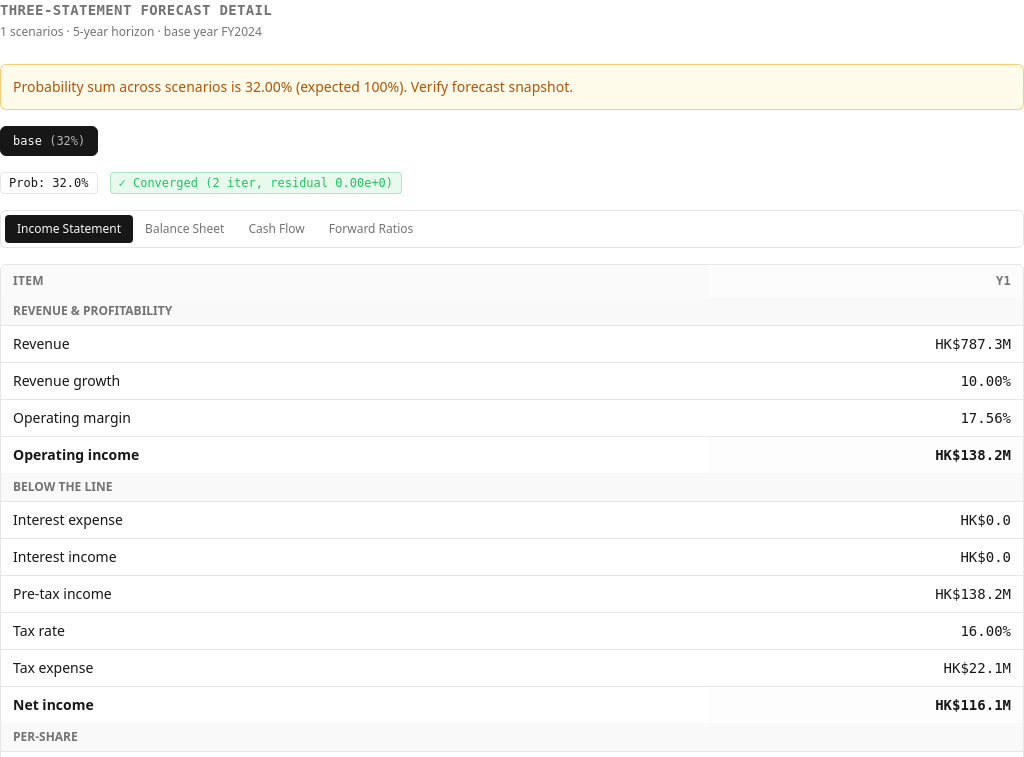
ForecastDetail (Sprint 1B.2) › switches to Cash Flow sub-tab and shows capital deployment fields
Click the button "Cash Flow" at (277, 229), box [236,215,317,243]
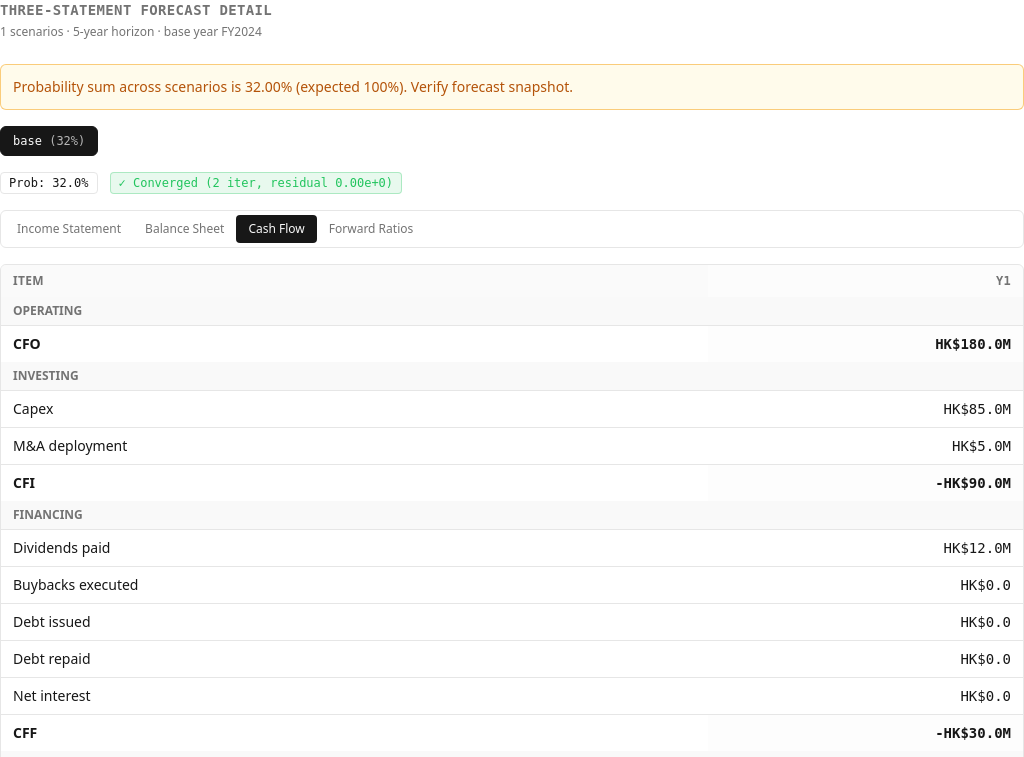
expect the text "Capex" is shown: met, box [1,390,708,428]
expect the text "M&A deployment" is shown: met, box [1,428,708,464]
expect the text "Dividends paid" is shown: met, box [1,530,708,566]
